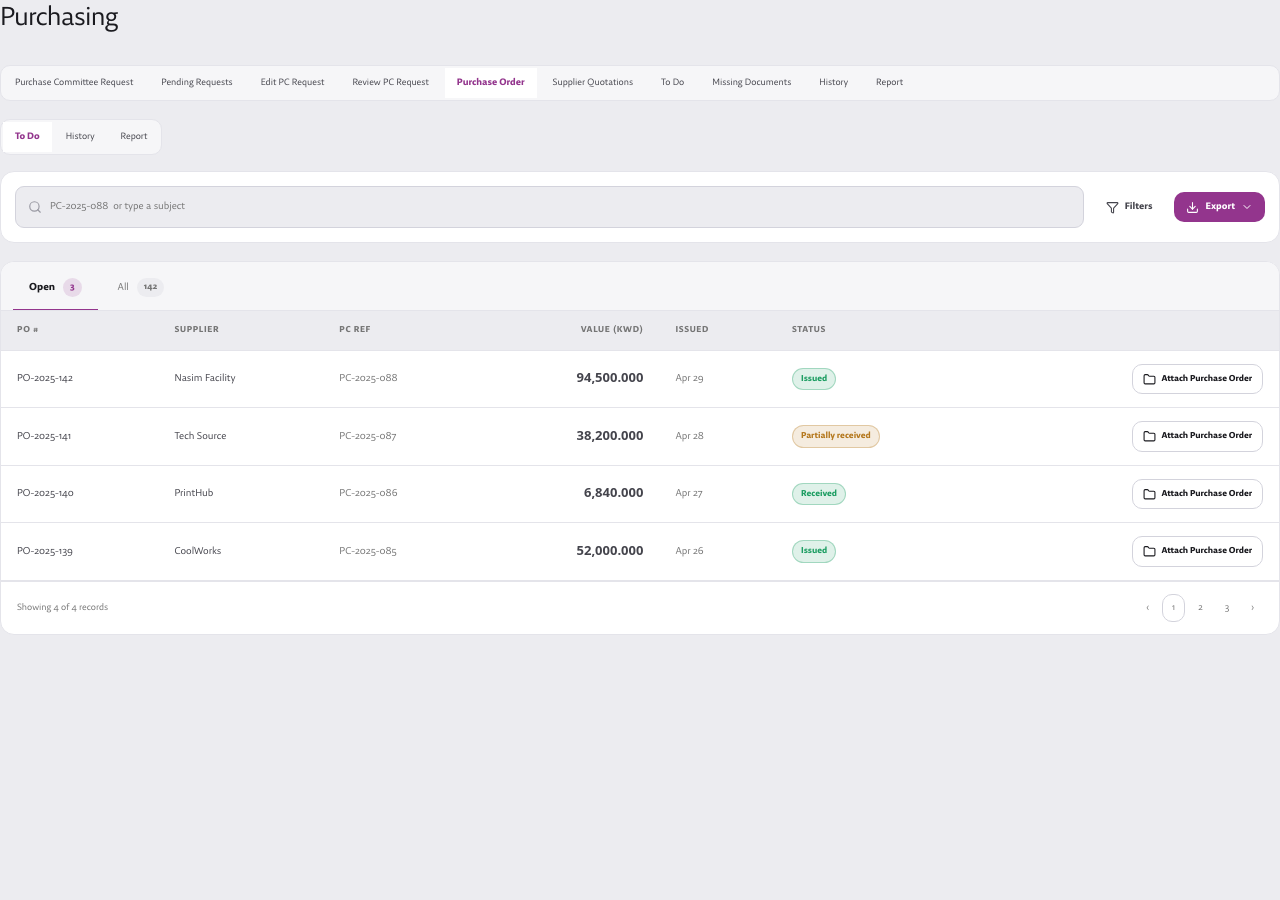
Test: M6.4 Purchase Order › dismisses via the shared Radix Dialog outside-close mechanism (Escape), without validation
The image size is (1280, 900).
Click the button "Attach Purchase Order" in the row of "PO-2025-142" at (1197, 379), box left=1132, top=364, right=1263, bottom=394
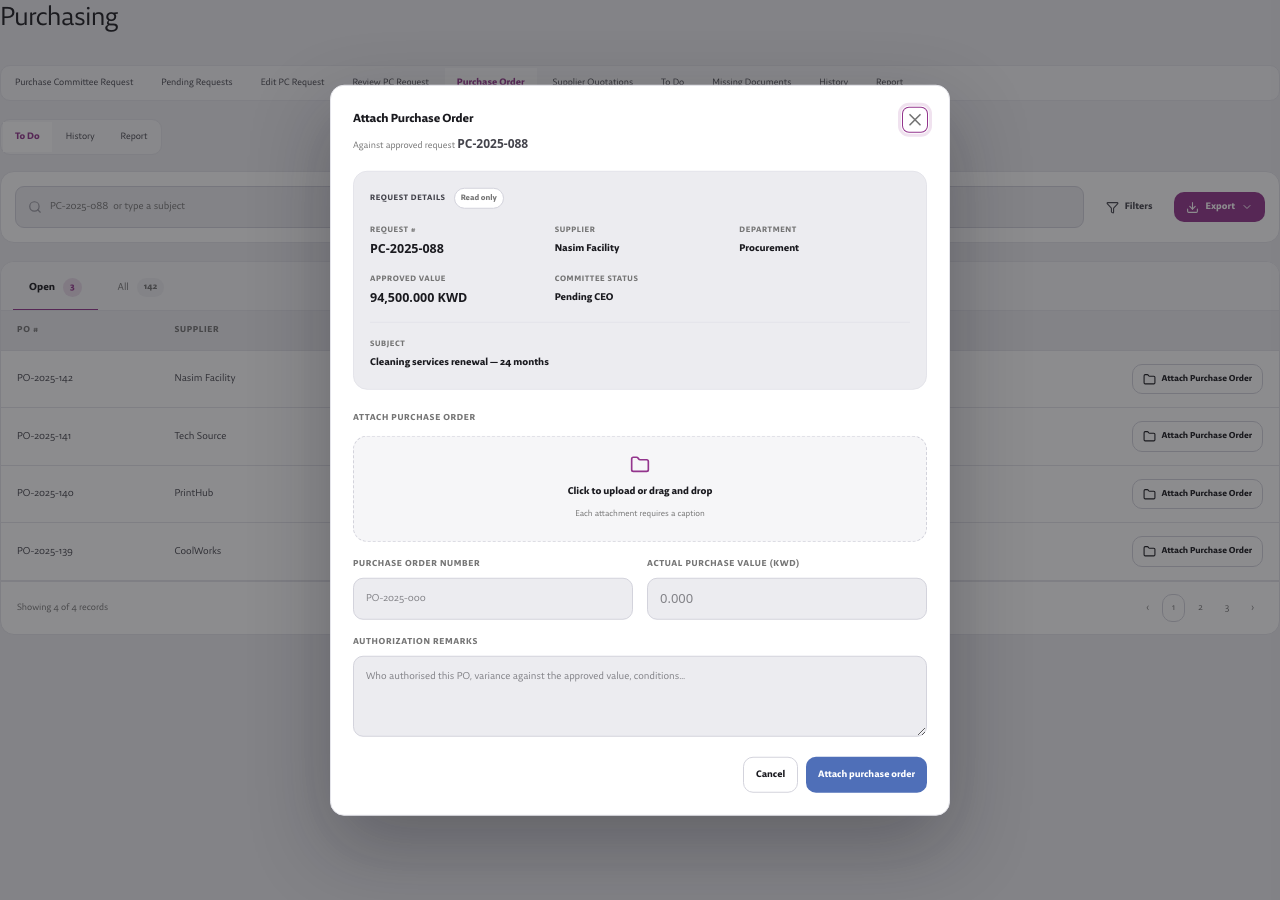
Result: the dialog with test id "po-attach-dialog" is shown at left=330, top=85, right=950, bottom=815
Press Escape
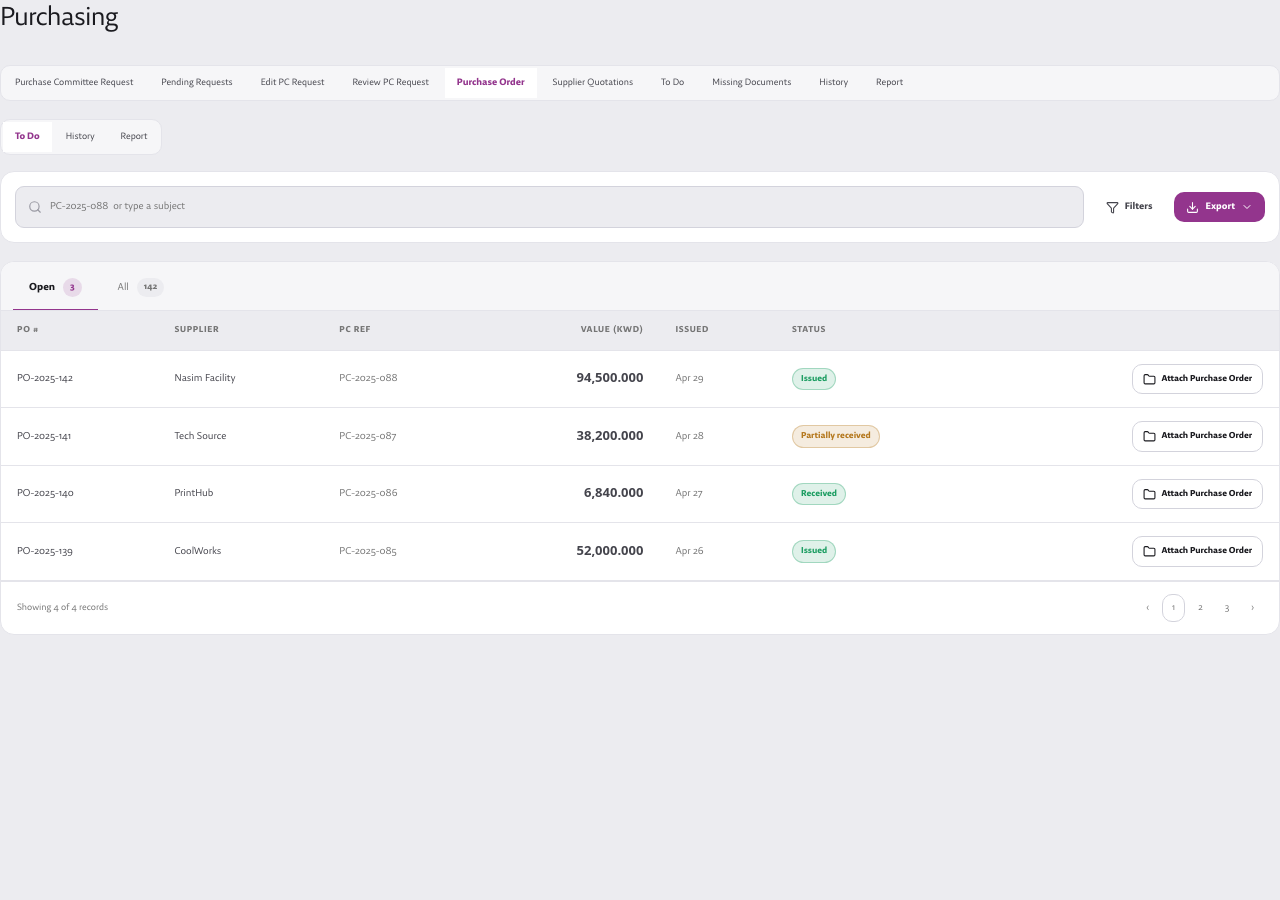
Result: the dialog with test id "po-attach-dialog" is gone
